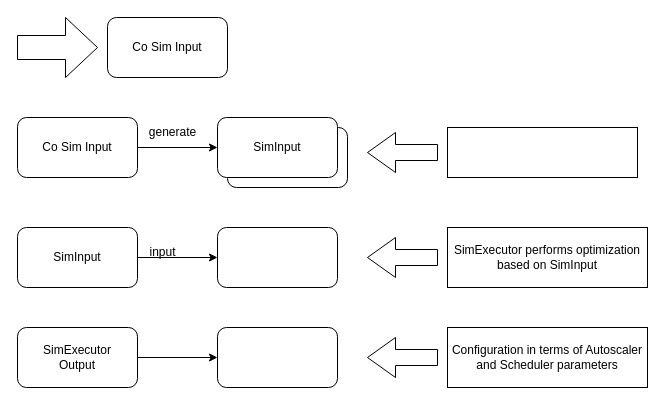
Image size: 665x405. Some labels were removed from this diagram. The box of each missing label's shape, as (x1, y1, x2, y2) in pixels:
Best Configuration: (216, 326, 338, 388)
Read: (16, 16, 98, 78)
SimExecutor: (216, 226, 338, 288)
SimInput == Scenario n_scenarios (in sim_params): (446, 126, 638, 178)
